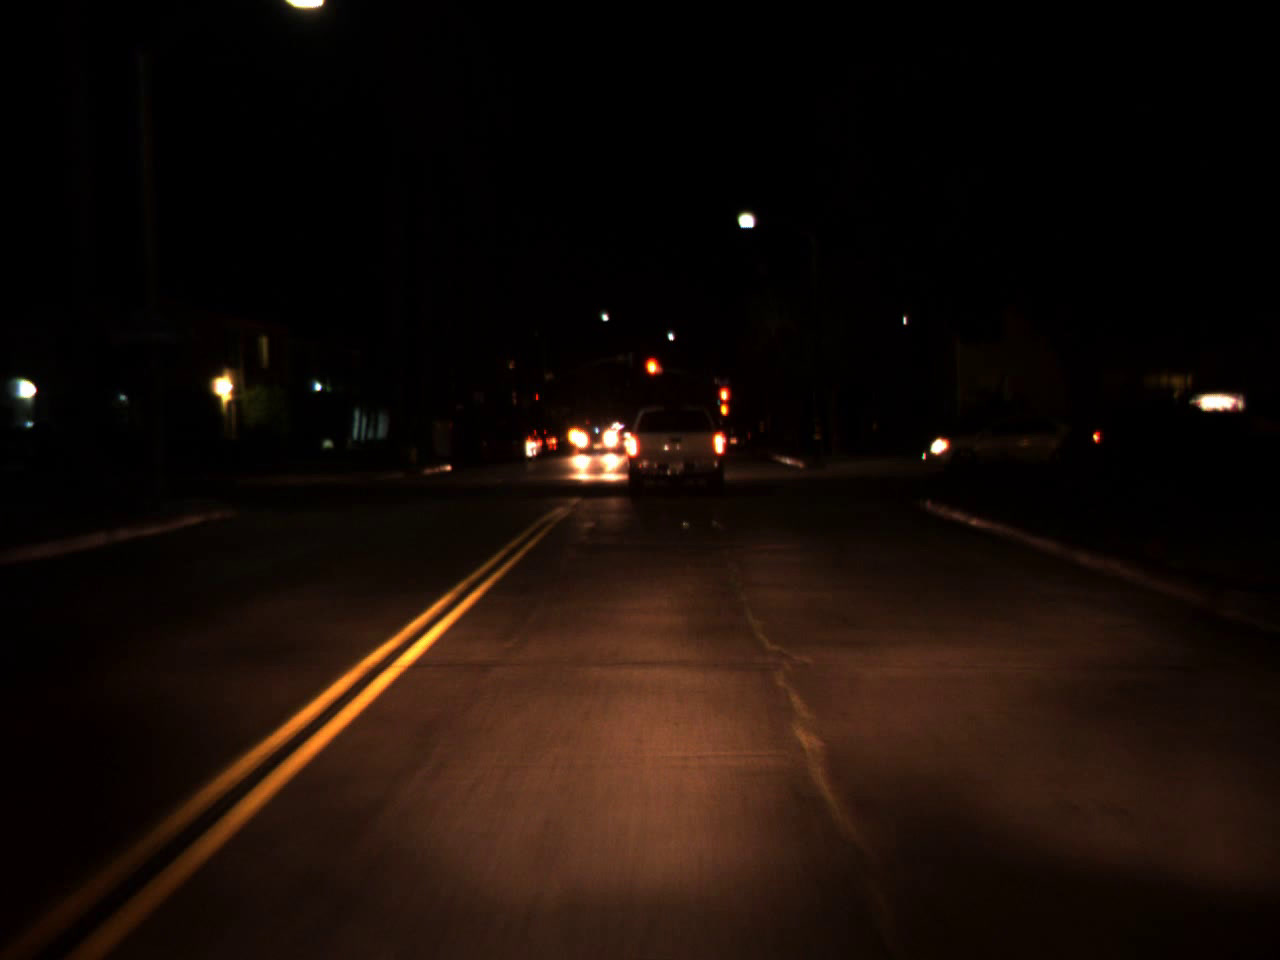stop: (642, 355, 661, 395), (716, 384, 732, 427)
